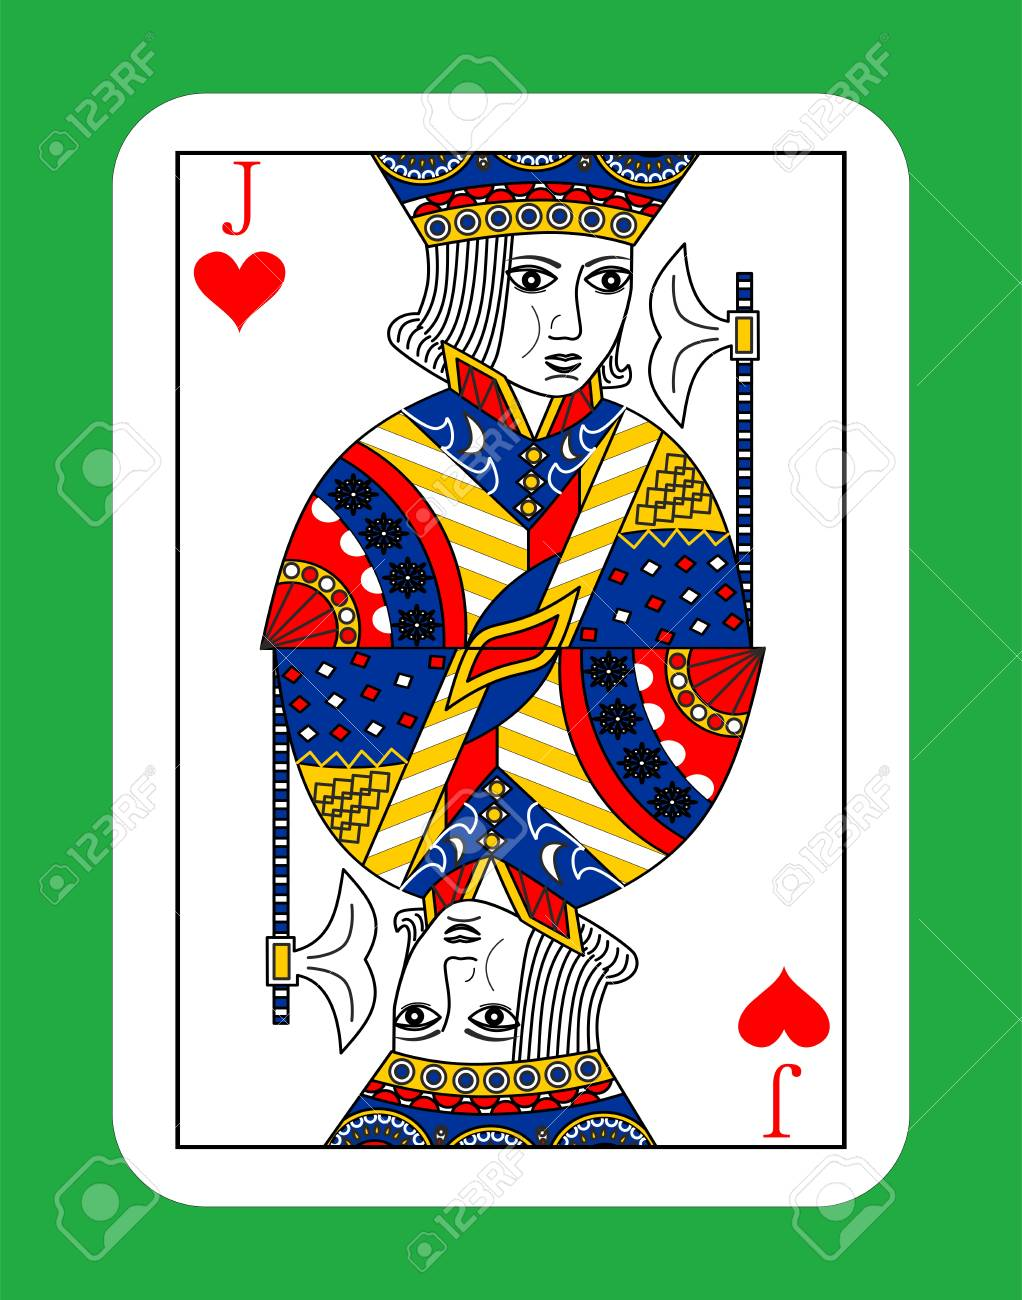jack of diamonds: (172, 137, 844, 1149)
